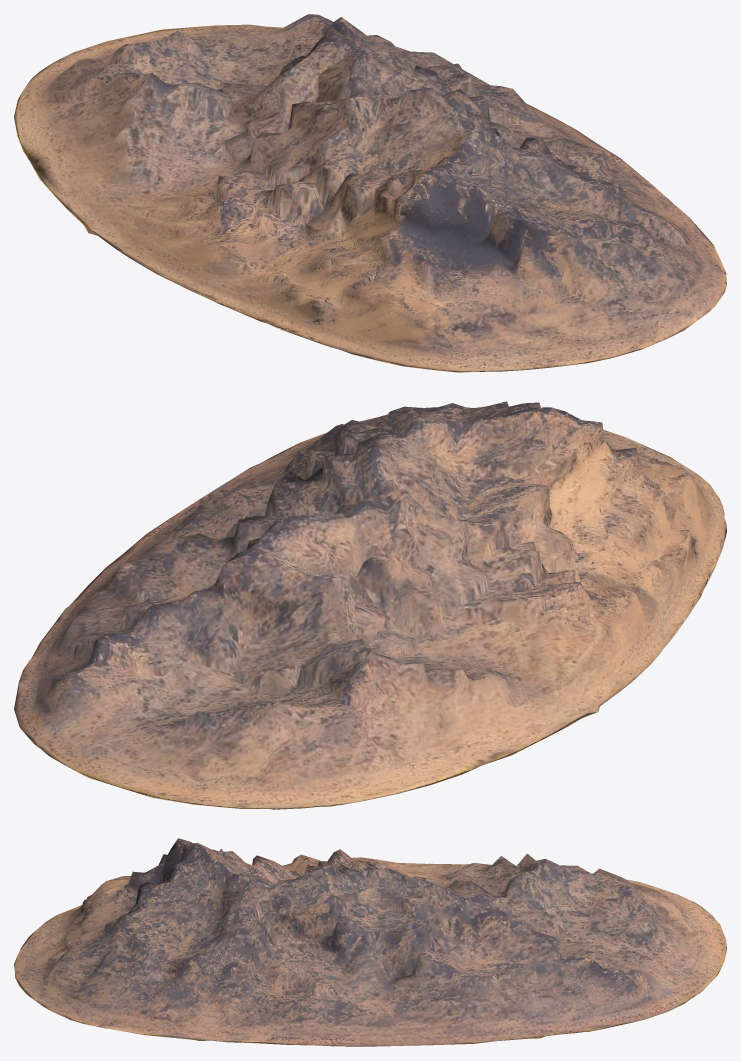
Rendered from cerro_desierto.glb.
3 views of the same model, one above another, from view 1: azimuth 30°, elevation 25°; view 2: azimuth 150°, elevation 25°; view 3: azimuth 270°, elevation 25° (orthographic). The views are drawn at different scales.
Parts seen in each view (by area): view 1: tripo_node_059a7846-d32f-41fa-888c-1dd90e4d393b; view 2: tripo_node_059a7846-d32f-41fa-888c-1dd90e4d393b; view 3: tripo_node_059a7846-d32f-41fa-888c-1dd90e4d393b.
Part boxes in pixels (bbox=[...]): tripo_node_059a7846-d32f-41fa-888c-1dd90e4d393b: bbox=[14, 14, 726, 372]; tripo_node_059a7846-d32f-41fa-888c-1dd90e4d393b: bbox=[14, 401, 726, 809]; tripo_node_059a7846-d32f-41fa-888c-1dd90e4d393b: bbox=[14, 838, 726, 1046].
Size of the model in its own units: 0.5972 by 0.16 by 0.9807.
1 material, 1 textured.
